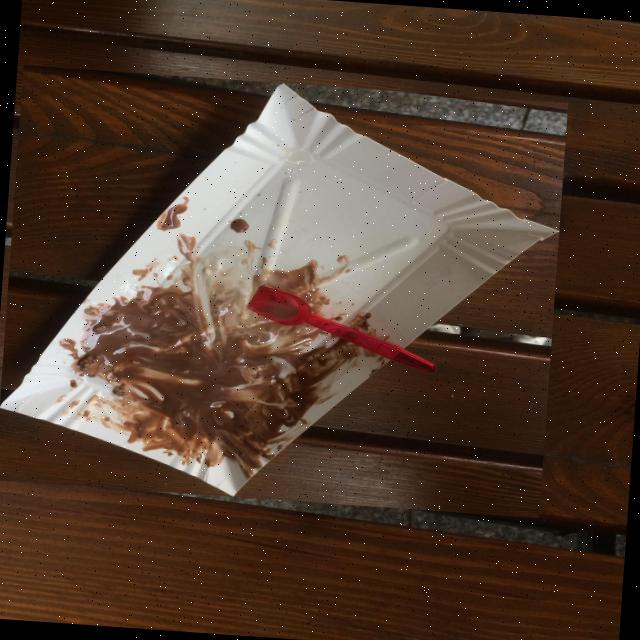Meal carton: (0, 84, 558, 497)
Plastic utensils: (122, 224, 318, 286)
